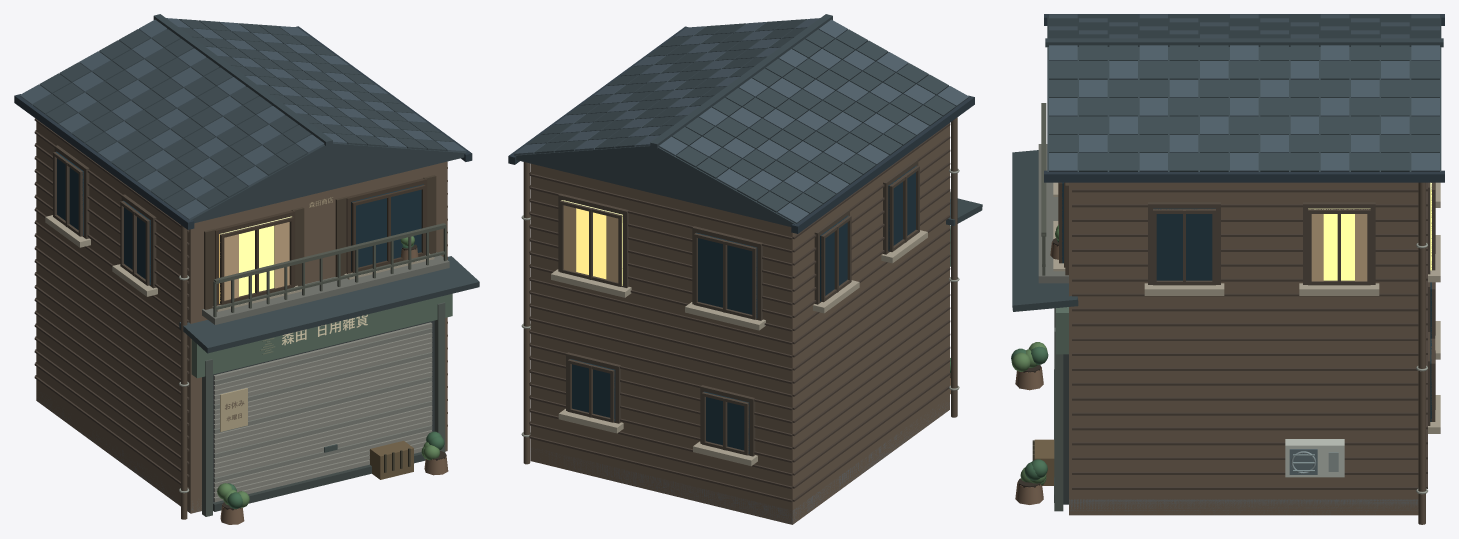
Rendered from closedshop.glb.
3 views of the same model, side by side, from view 1: azimuth 30°, elevation 25°; view 2: azimuth 150°, elevation 25°; view 3: azimuth 270°, elevation 25° (orthographic). The views are drawn at different scales.
Visible parts, largest first — view 1: 森田杂货铺, Group_114, Group_127, Group_138, Group_163, Group_172; view 2: 森田杂货铺, Group_219, Group_201, Group_210, Group_230, Group_172, Group_163; view 3: 森田杂货铺, Group_181, Group_190, Group_435, Group_219, Group_230, Group_138, Group_127, Group_210.
Boxes of the visible parts, x1,y1,x2,y2 form: 森田杂货铺: (14, 14, 479, 524); Group_114: (212, 210, 301, 311); Group_127: (344, 178, 434, 279); Group_138: (213, 223, 446, 317); Group_163: (112, 194, 157, 296); Group_172: (45, 145, 90, 247); 森田杂货铺: (508, 14, 982, 524); Group_219: (551, 193, 631, 297); Group_201: (685, 226, 765, 330); Group_210: (693, 385, 757, 466); Group_230: (558, 352, 623, 433); Group_172: (813, 209, 859, 313); Group_163: (881, 159, 927, 263); 森田杂货铺: (1011, 14, 1444, 524); Group_181: (1144, 202, 1224, 295); Group_190: (1299, 202, 1379, 295); Group_435: (1285, 439, 1344, 477); Group_219: (1428, 182, 1440, 282); Group_230: (1428, 332, 1440, 433); Group_138: (1041, 103, 1046, 275); Group_127: (1053, 182, 1065, 271); Group_210: (1428, 282, 1440, 359).
Bounding box in the file's own units: 5.33 × 6.3 × 6.08.
45 materials, 4 textured.
